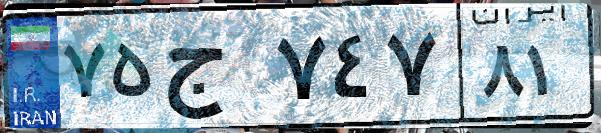1: (525, 38, 570, 115)
4: (330, 28, 385, 110)
5: (110, 28, 158, 98)
7: (270, 28, 330, 110), (385, 28, 445, 110), (57, 26, 110, 100)
8: (475, 38, 525, 113)
ج: (158, 20, 270, 120)
